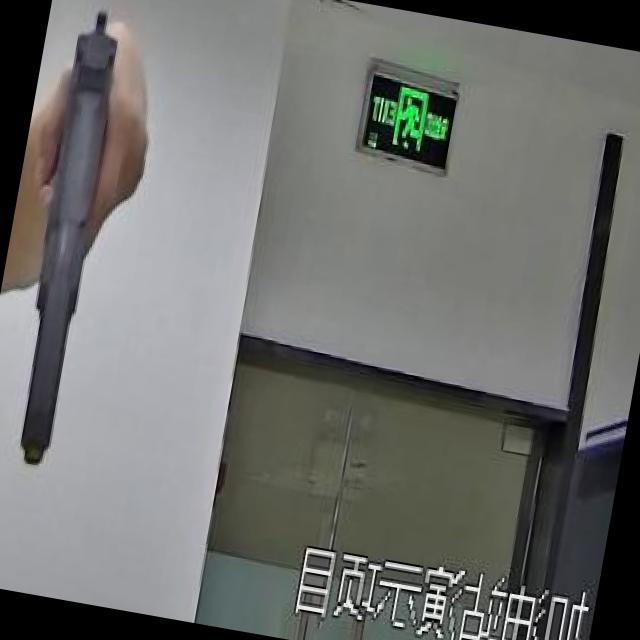Guns: (0, 0, 167, 499)
